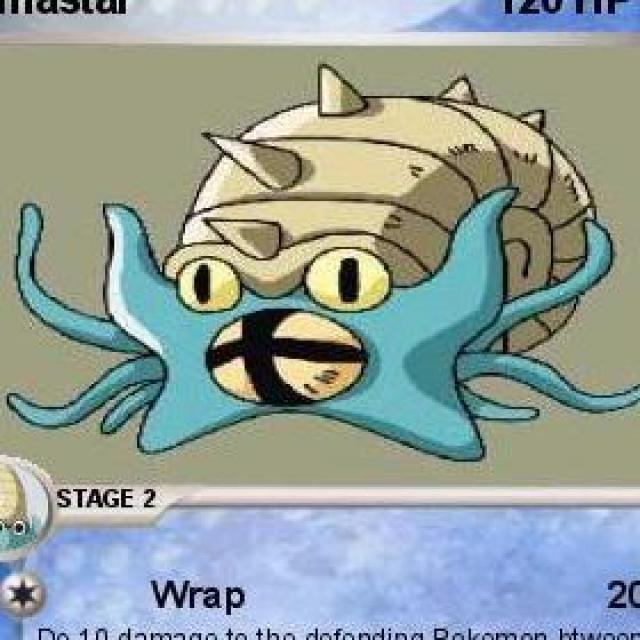Omastar: (130, 59, 600, 466)
